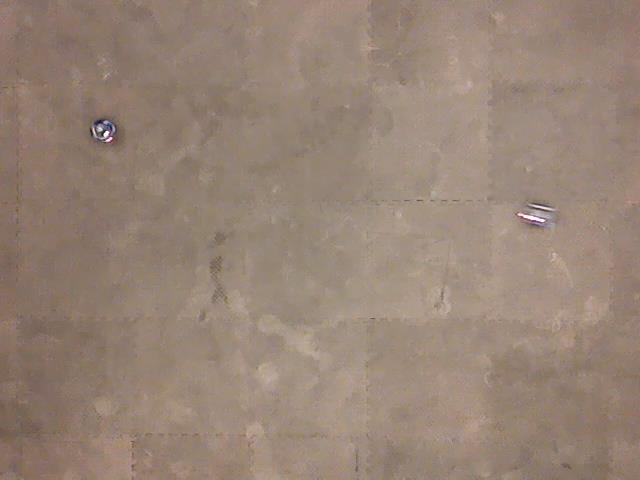Agent: (515, 199, 559, 228), (87, 117, 121, 146)
